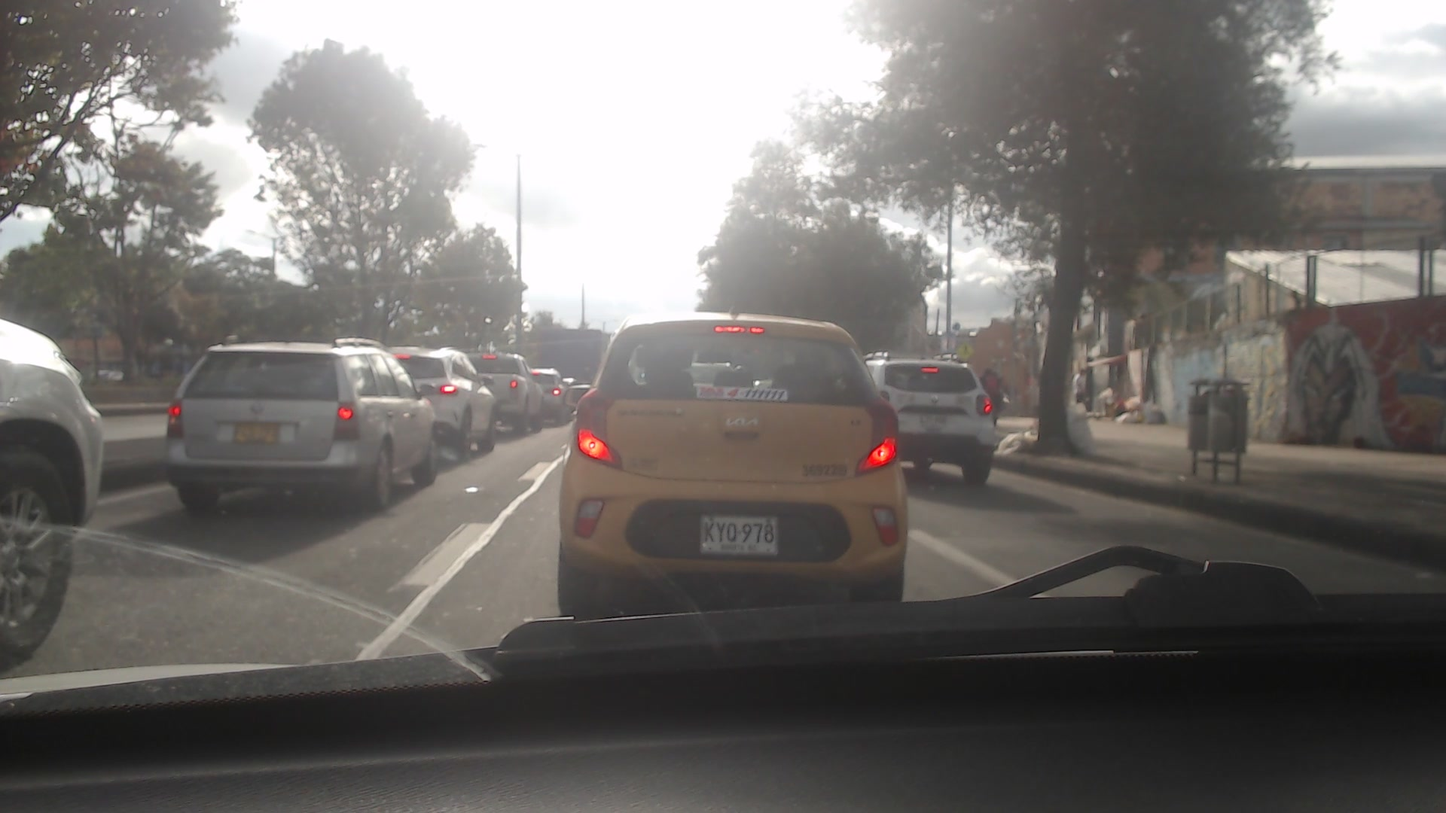car: (556, 309, 904, 606), (161, 341, 443, 505), (852, 346, 997, 487), (382, 348, 497, 452), (452, 348, 547, 437)
